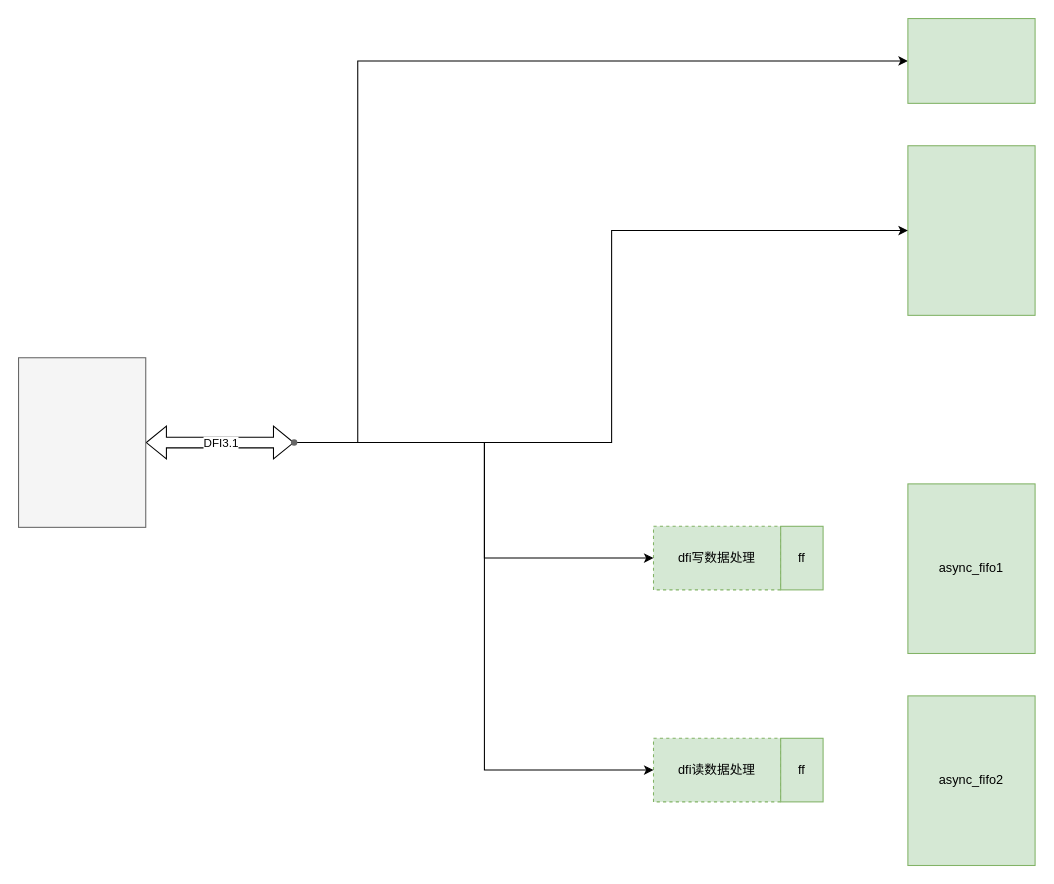
Image size: 1054x884. Some labels were removed from this diagram. The shapes that lost their labels are listed below. From the top down, each one's centre as x and y in pixels, then its label:
pixel 971 60: async_ff
pixel 971 230: async_fifo0
pixel 81 442: umctl2
